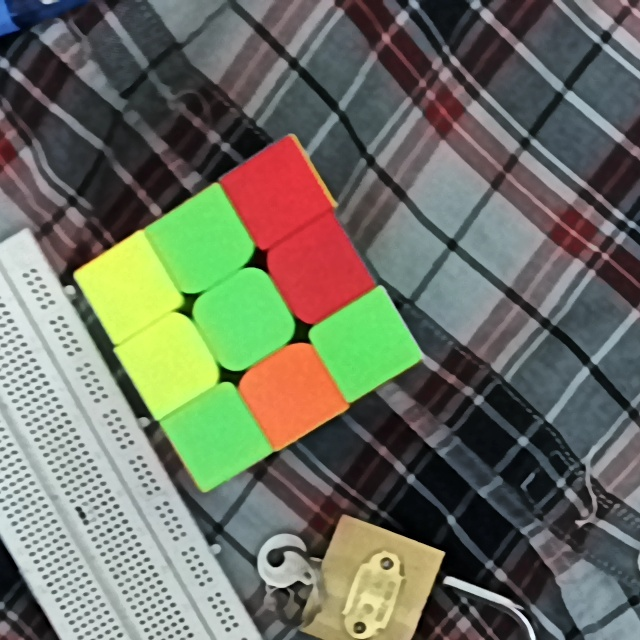tile: (331, 315, 397, 375), (282, 243, 348, 300), (168, 215, 232, 273), (186, 405, 243, 466), (246, 164, 306, 221), (260, 365, 320, 422), (212, 291, 272, 347), (97, 259, 155, 314), (141, 337, 200, 390)
